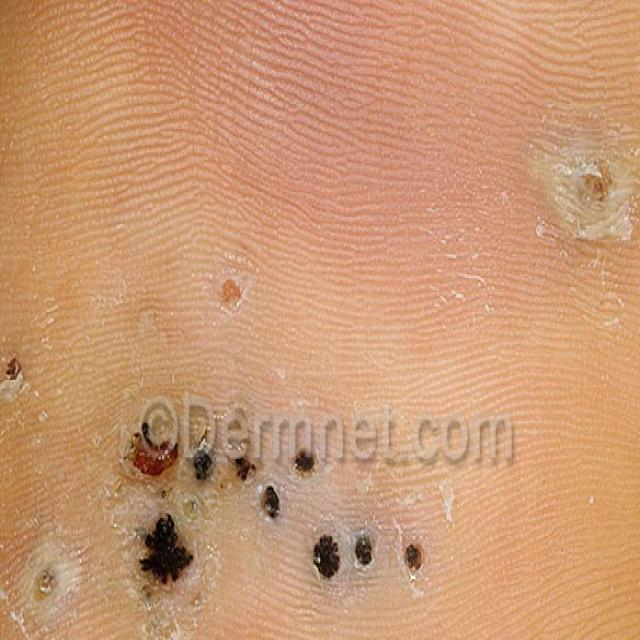Warts: (117, 367, 431, 640)
